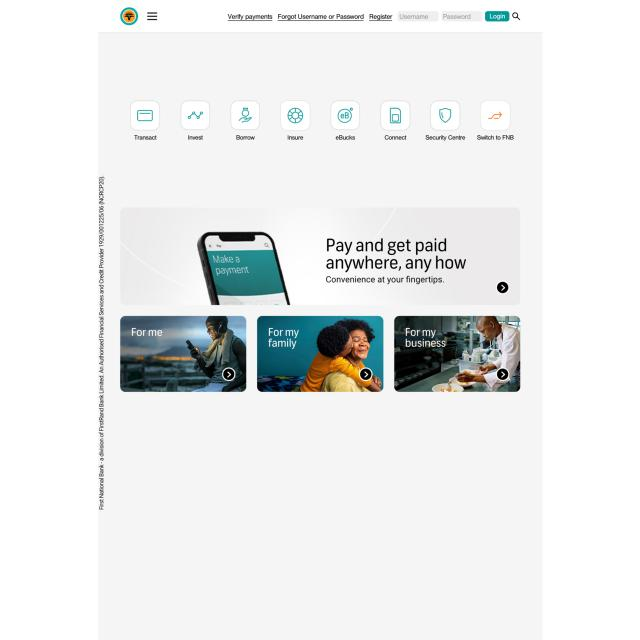input: (398, 11, 440, 22), (442, 11, 483, 22)
logo: (118, 5, 139, 26)
navigation: (145, 9, 159, 23)
